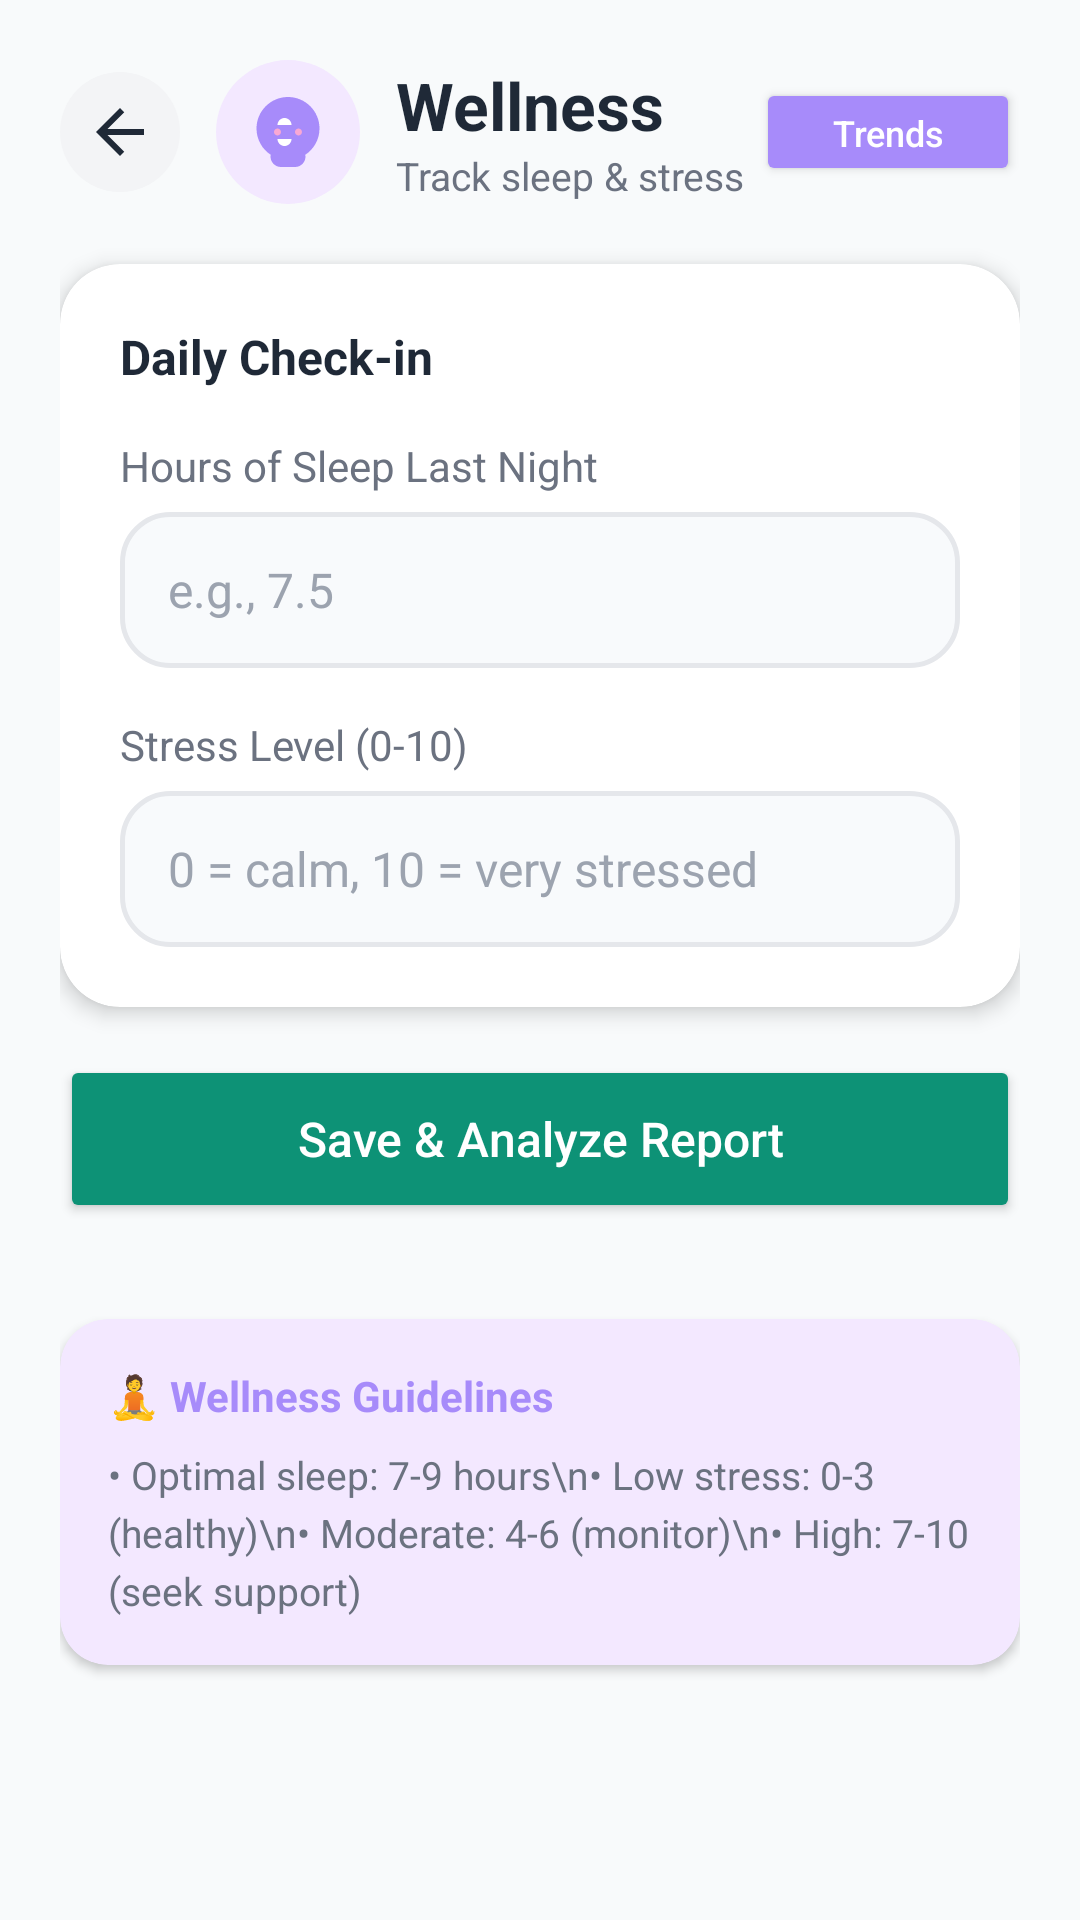

Screen size 1080px x 1920px. Icon name, then its box in pixels as BBox(x1, y1, x2, y2):
Back: BBox(96, 108, 144, 156)
health stress: BBox(256, 97, 320, 167)
